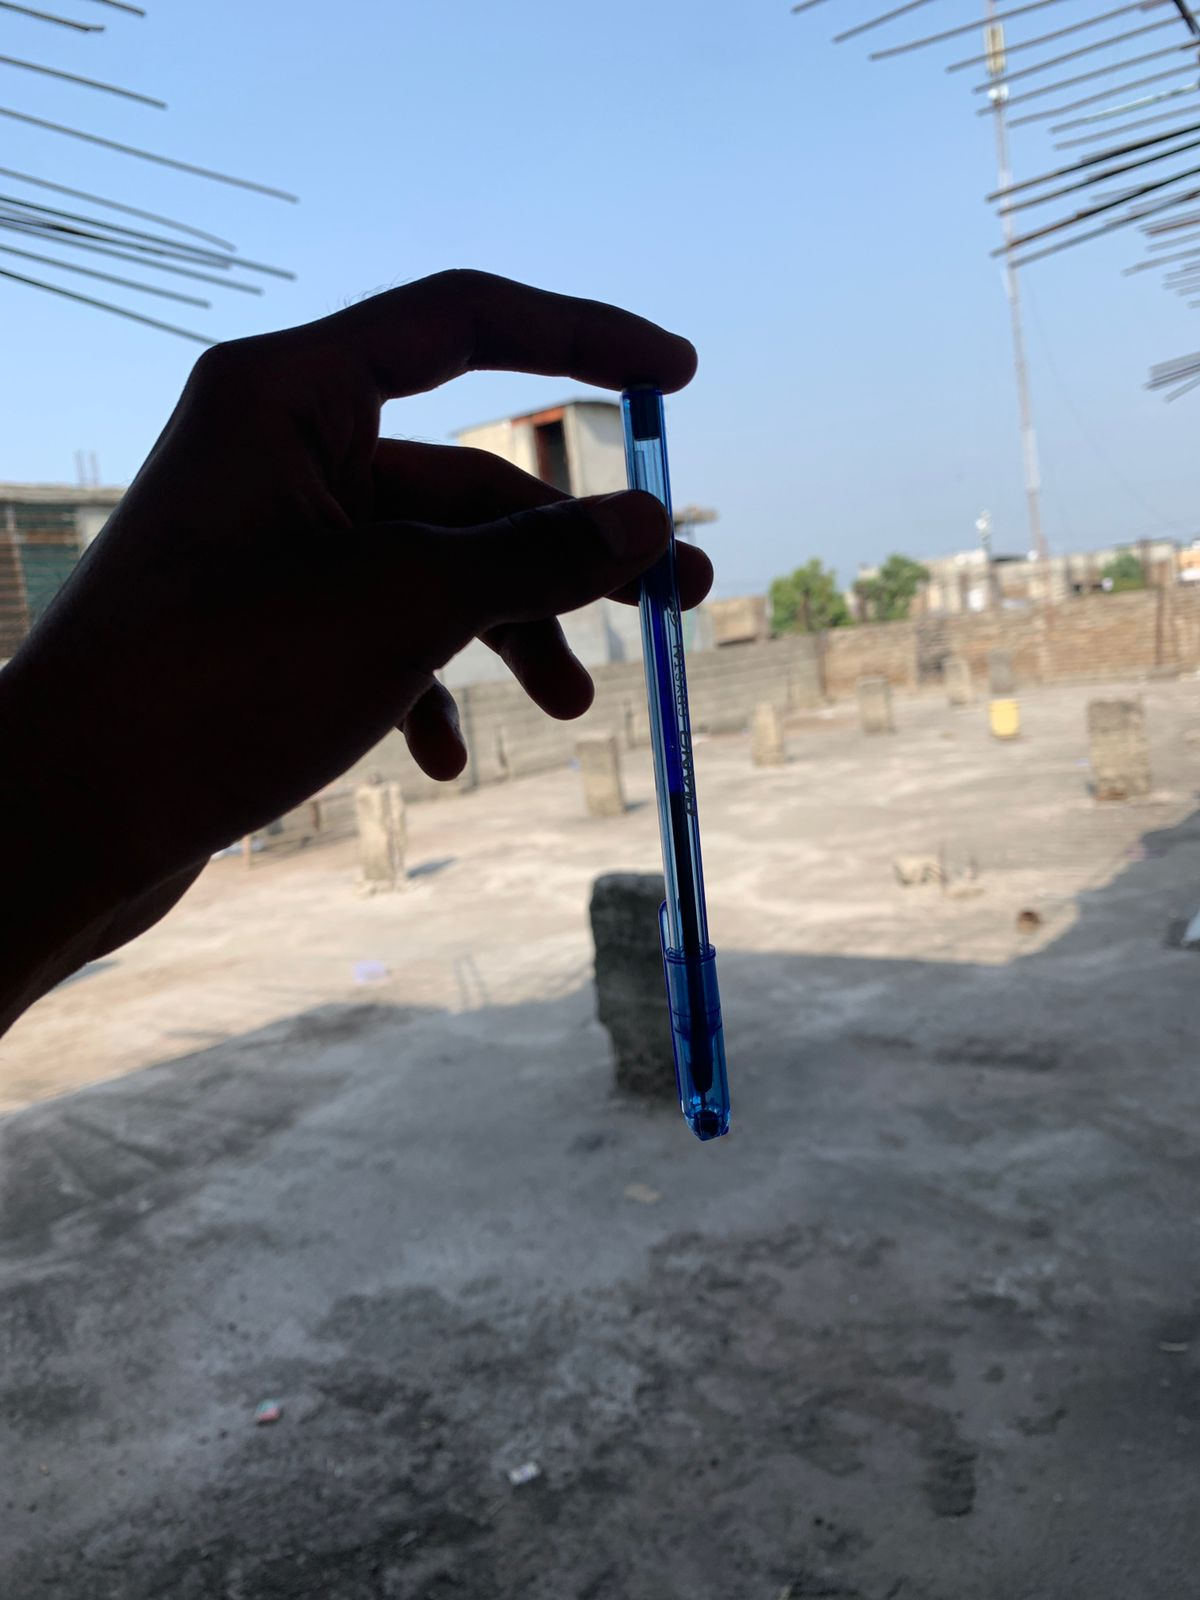pen: (539, 283, 823, 1150)
